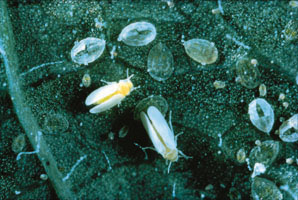whitefly: (137, 105, 188, 173), (84, 68, 137, 113)
